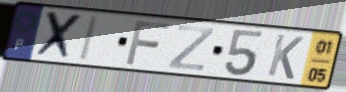5: (223, 28, 266, 78)
F: (124, 19, 173, 67)
I: (77, 14, 102, 63)
K: (265, 33, 306, 82)
X: (31, 9, 86, 63)
Z: (165, 23, 217, 73)
